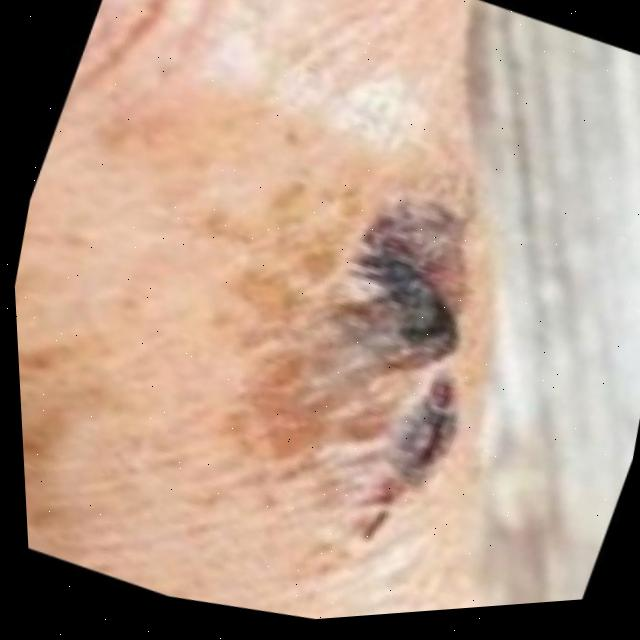Eczema: (238, 204, 497, 538)
